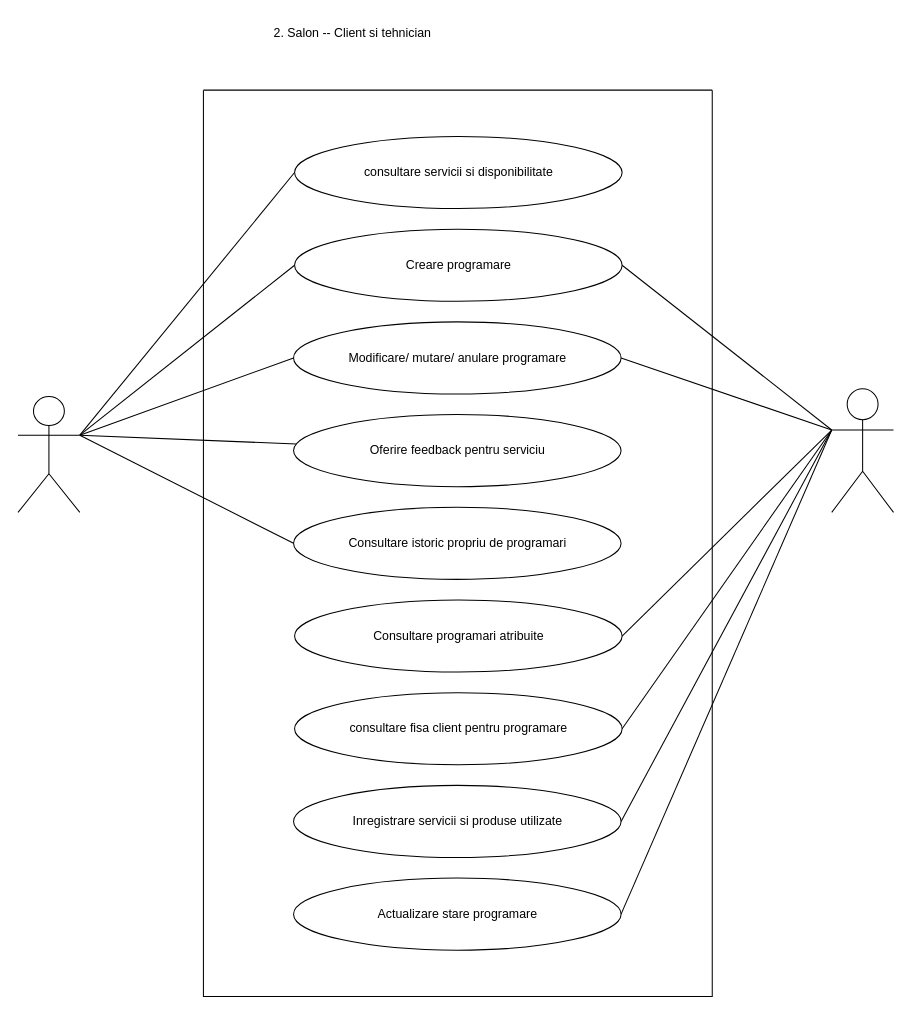
This 912x1015 diagram has some shape labels left out. The centre of each missing label's shape, as x and y in pixels:
"client" goes at point 48,454.
"tehnician" goes at point 862,450.
